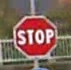stop: (12, 12, 57, 58)
